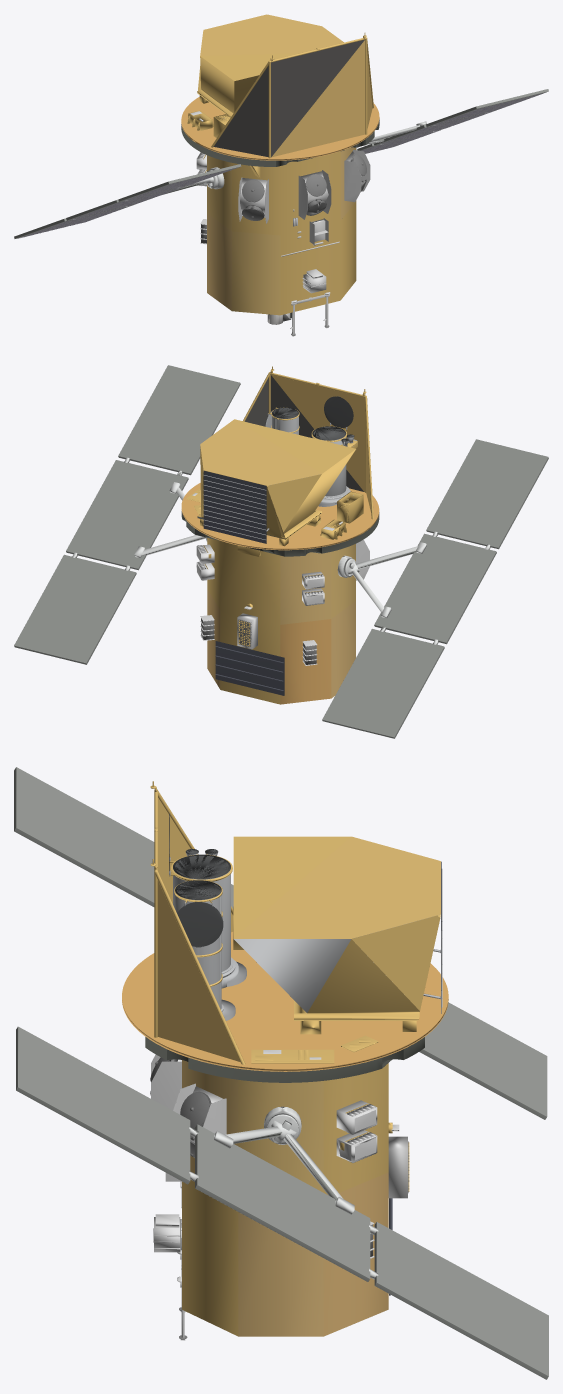
File: swift.glb
3 renders of one model, top to bottom at view 1: azimuth 30°, elevation 25°; view 2: azimuth 150°, elevation 25°; view 3: azimuth 270°, elevation 25°, orthographic. The views are drawn at different scales.
Parts seen in each view (by area): view 1: Fake; view 2: Fake; view 3: Fake.
Part boxes in pixels (box(x1,y1,x2,y2)): Fake: box(14, 14, 548, 336); Fake: box(14, 365, 548, 738); Fake: box(14, 767, 548, 1379).
Size of the model in its own units: 39.92 by 29.44 by 28.26.
1 material, 1 textured.
